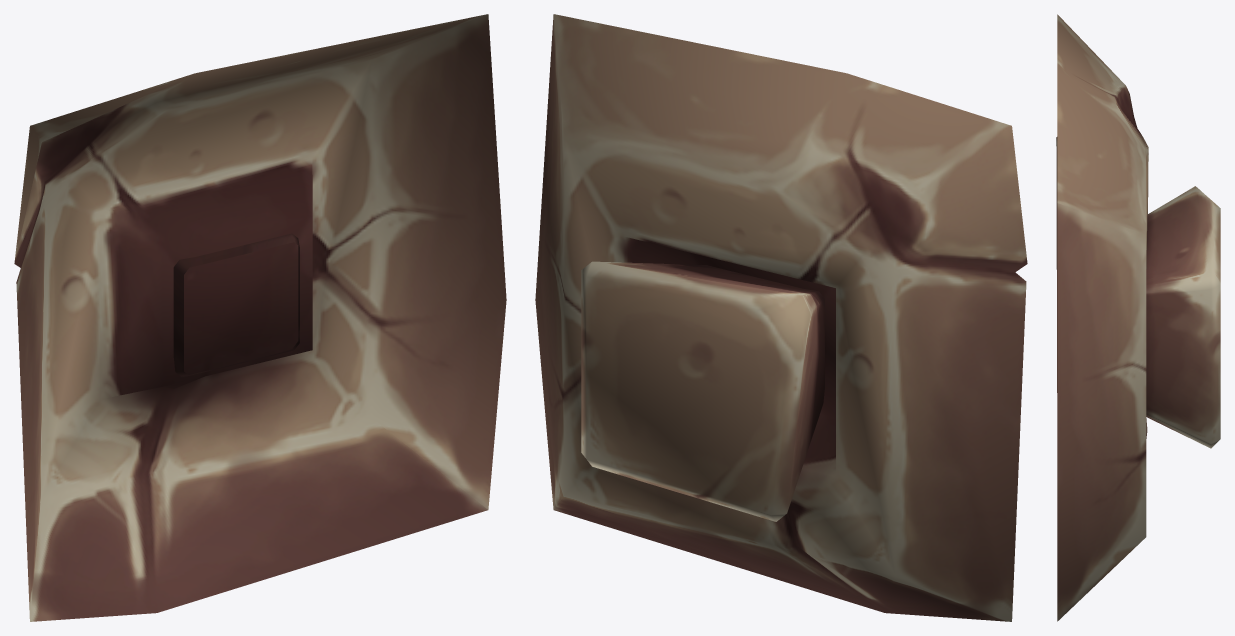
Rendered from Temple Button.FBX.
3 renders of one model, left to right at view 1: azimuth 30°, elevation 25°; view 2: azimuth 150°, elevation 25°; view 3: azimuth 270°, elevation 25°, orthographic. The views are drawn at different scales.
Parts seen in each view (by area): view 1: Button Base, Button; view 2: Button Base, Button; view 3: Button Base, Button.
Boxes of the visible parts, box(x1,y1,x2,y2) form: Button Base: box(14, 14, 506, 621); Button: box(173, 233, 299, 376); Button Base: box(535, 14, 1027, 621); Button: box(581, 261, 824, 521); Button Base: box(1056, 14, 1148, 621); Button: box(1146, 186, 1220, 448).
Size of the model in its own units: 51.07 by 17.45 by 52.6.
Materials: 1 (1 with a texture image).
